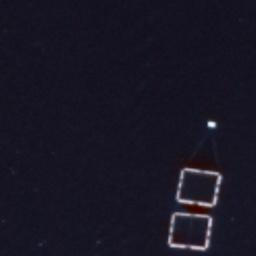square_solid: (174, 166, 222, 208), (167, 210, 213, 252)
